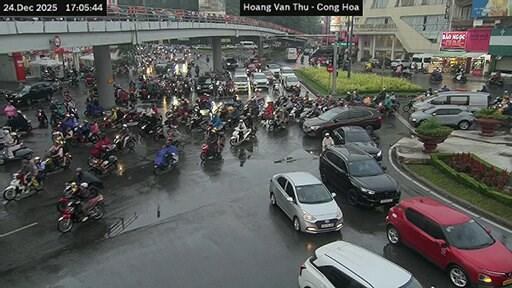motorbike: (57, 194, 103, 232), (3, 172, 44, 199), (0, 143, 32, 163), (86, 145, 115, 166), (88, 154, 117, 174), (5, 112, 32, 133), (153, 153, 178, 175), (57, 181, 73, 211), (44, 153, 70, 171), (66, 131, 98, 145), (57, 183, 73, 211), (230, 127, 255, 144), (83, 175, 102, 196), (201, 143, 220, 161), (138, 122, 160, 136), (262, 116, 284, 130), (112, 135, 134, 148), (185, 117, 207, 130), (377, 103, 399, 115), (83, 103, 103, 116), (122, 112, 140, 125), (35, 109, 47, 126), (402, 99, 415, 112), (486, 76, 502, 85), (153, 126, 163, 139), (85, 73, 95, 85), (451, 73, 466, 81), (428, 75, 441, 81), (69, 76, 76, 85)
